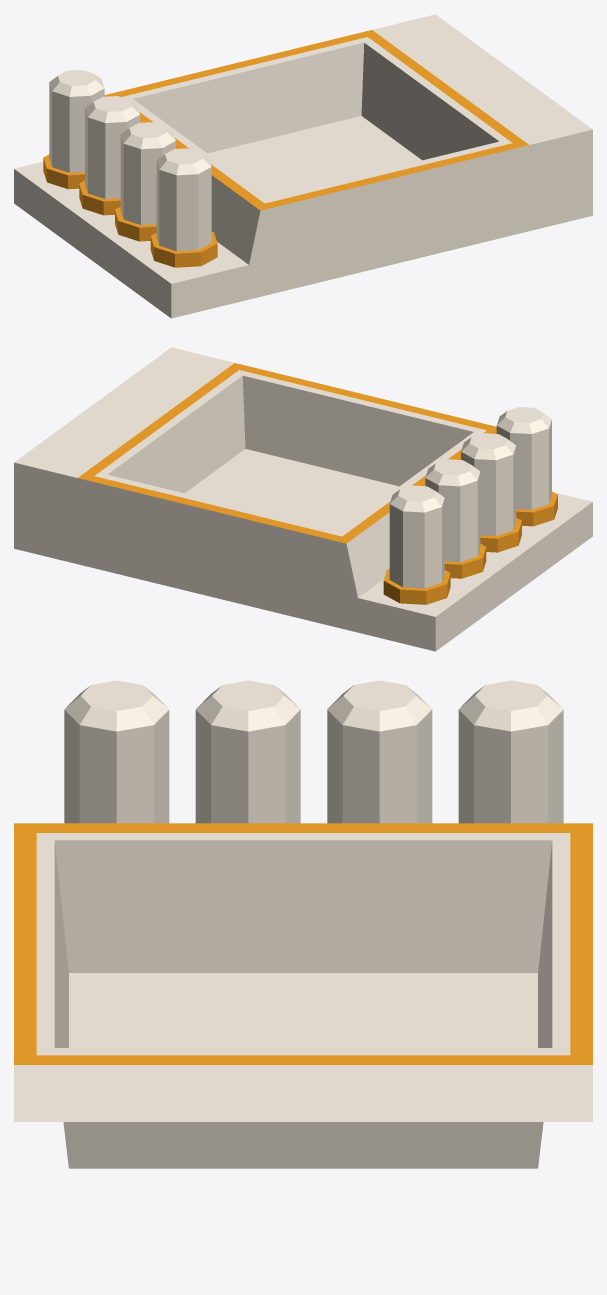
Rendered from DiamondStorage.fbx.
3 renders of one model, top to bottom at view 1: azimuth 30°, elevation 25°; view 2: azimuth 150°, elevation 25°; view 3: azimuth 270°, elevation 25°, orthographic. The views are drawn at different scales.
Parts seen in each view (by area): view 1: DiamondStorage; view 2: DiamondStorage; view 3: DiamondStorage.
Part boxes in pixels (x1,y1,x2,y2): DiamondStorage: (14,14,592,318); DiamondStorage: (14,347,592,651); DiamondStorage: (14,680,592,1168).
Bounding box in the file's own units: 184 × 55.06 × 119.
